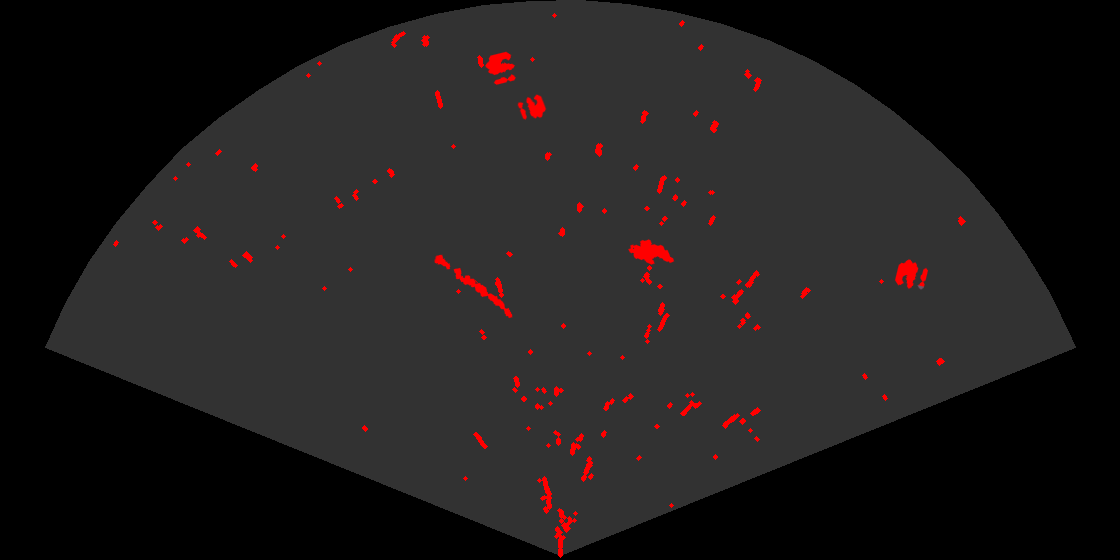AUV: (627, 238, 676, 266)
ball: (893, 258, 930, 291), (484, 50, 517, 86), (516, 93, 548, 121)
chain: (433, 253, 514, 320)
